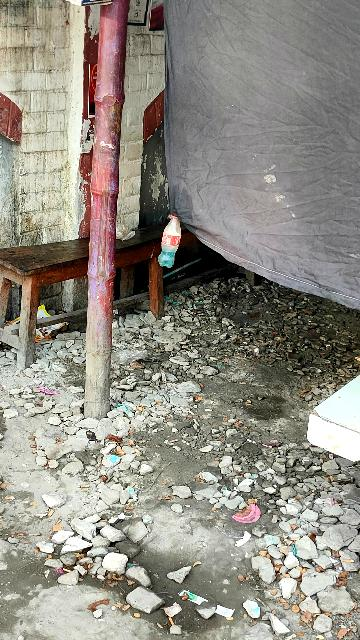bottle: (157, 214, 189, 269)
